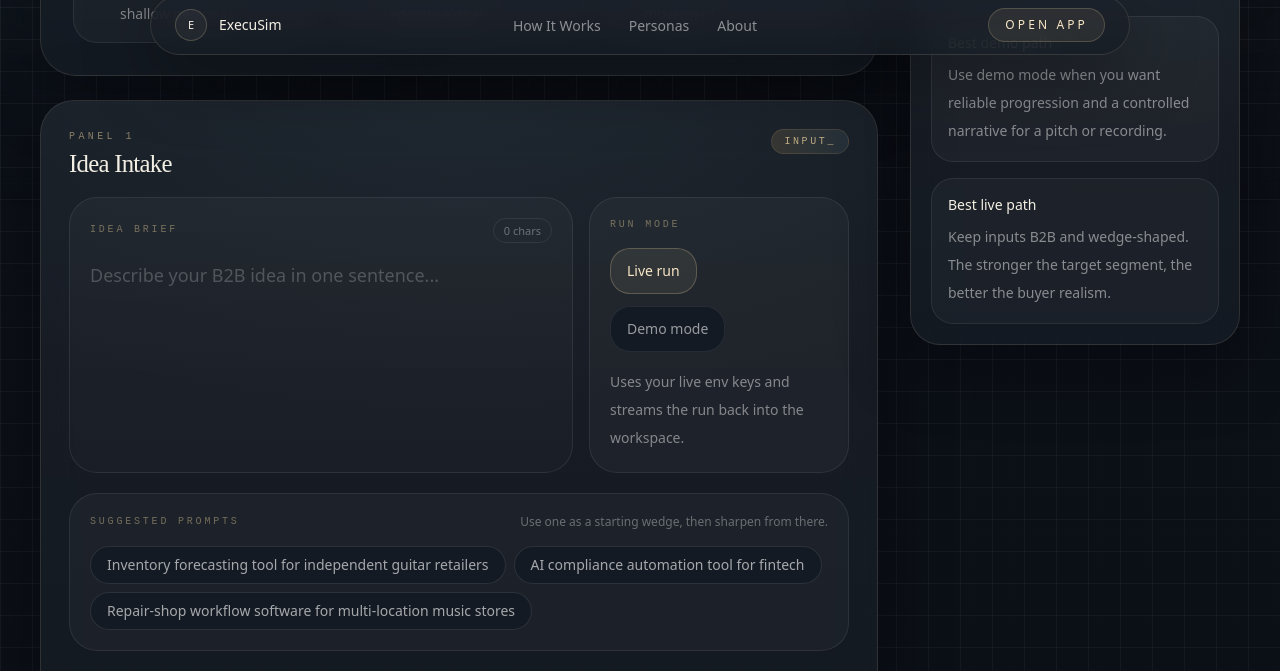
Test case: SimulatePage › shows strategy in panel 2 after successful SSE events
The image size is (1280, 671).
(page scrolled)
Type "AI compliance tool for fintech" into the text box with test id "idea-input" at {"x": 321, "y": 335}, box [90, 259, 552, 411]
(page scrolled)
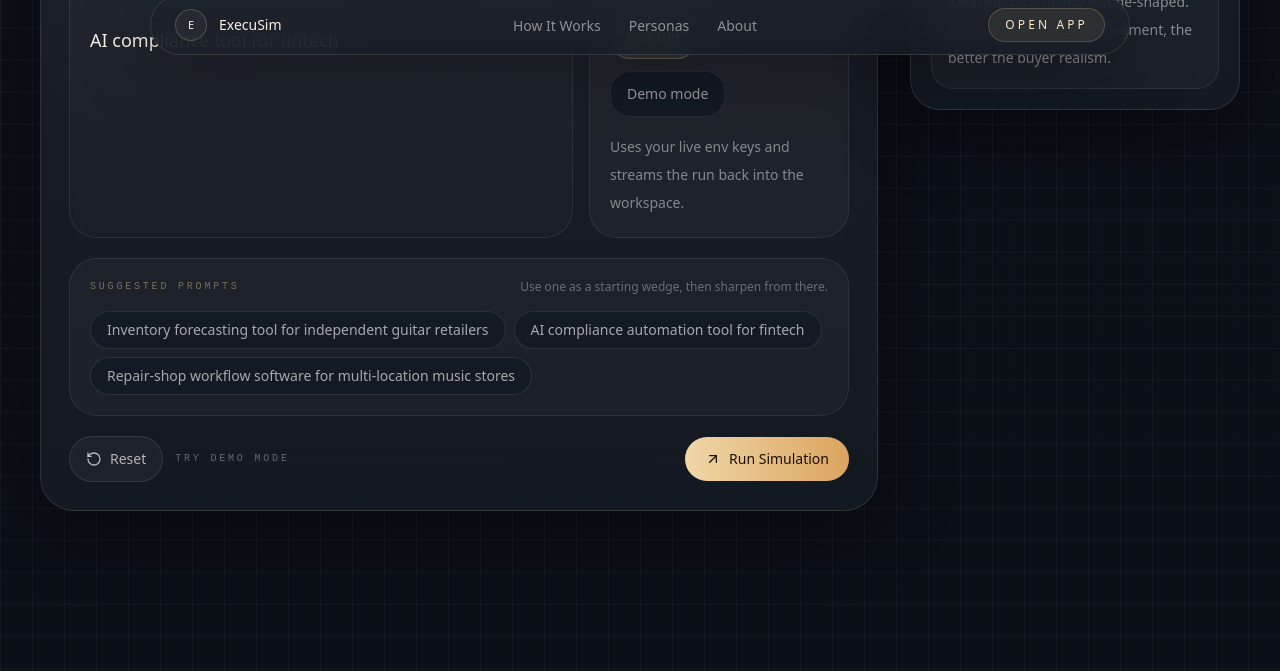
Click the button with test id "submit-button" at {"x": 767, "y": 459}, box [685, 437, 849, 481]
(page scrolled)
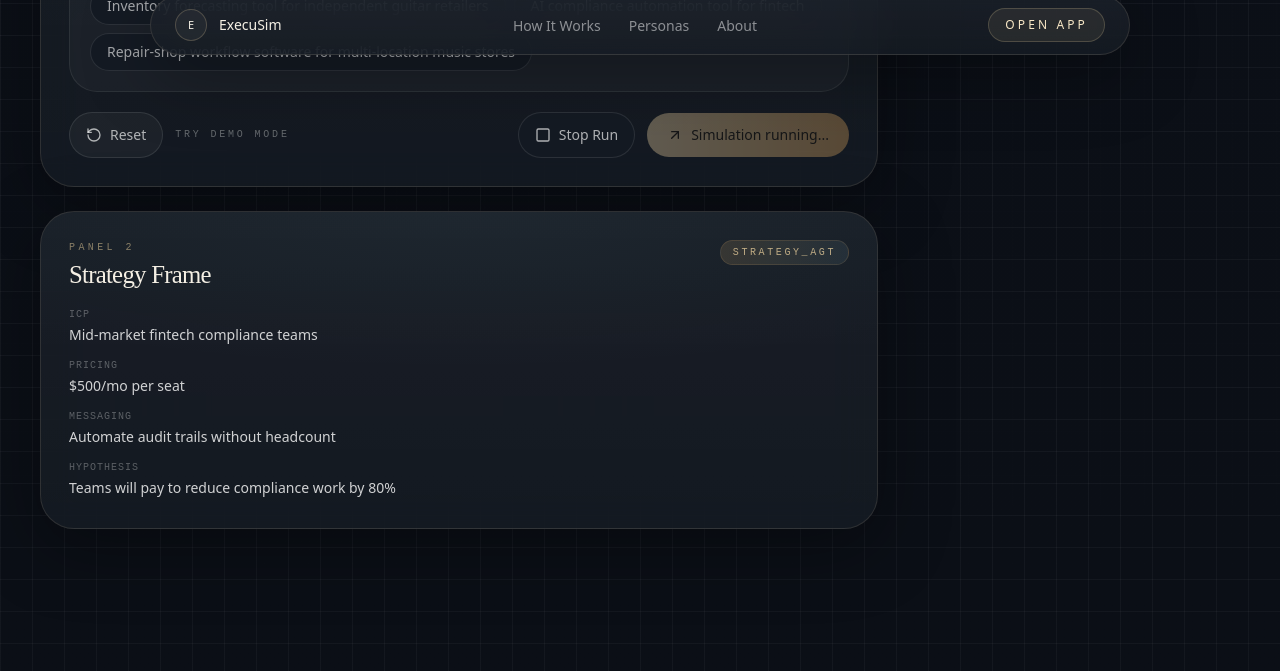
Result: the element with test id "strategy-display" is shown at [69, 309, 396, 497]
Result: the text with test id "strategy-icp" reads "Mid-market fintech compliance teams" at [69, 325, 318, 344]
